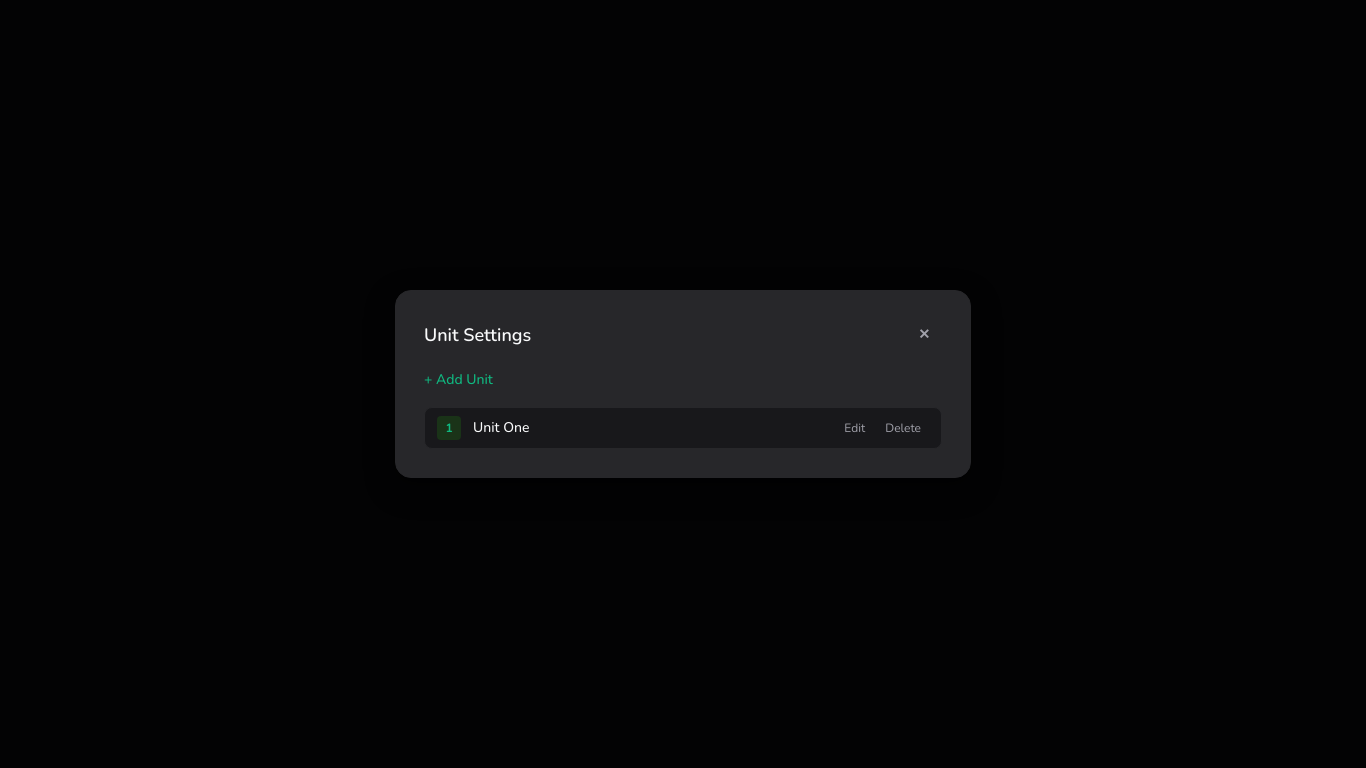
it: UnitSettingsModal › closes delete dialog when cancel clicked
Click the button "Delete".
click(903, 428)  # box [877, 416, 929, 440]
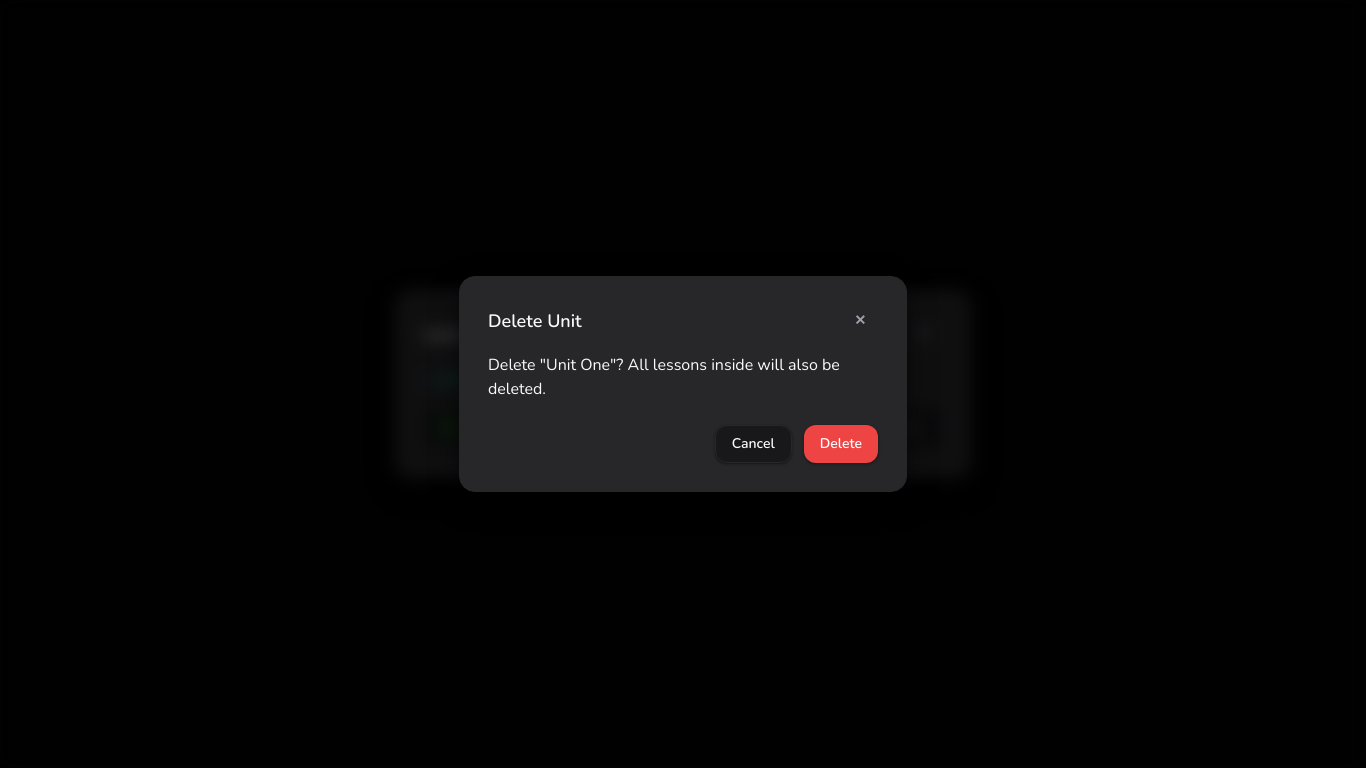
Click the button "Cancel".
click(753, 444)  # box [715, 425, 792, 463]
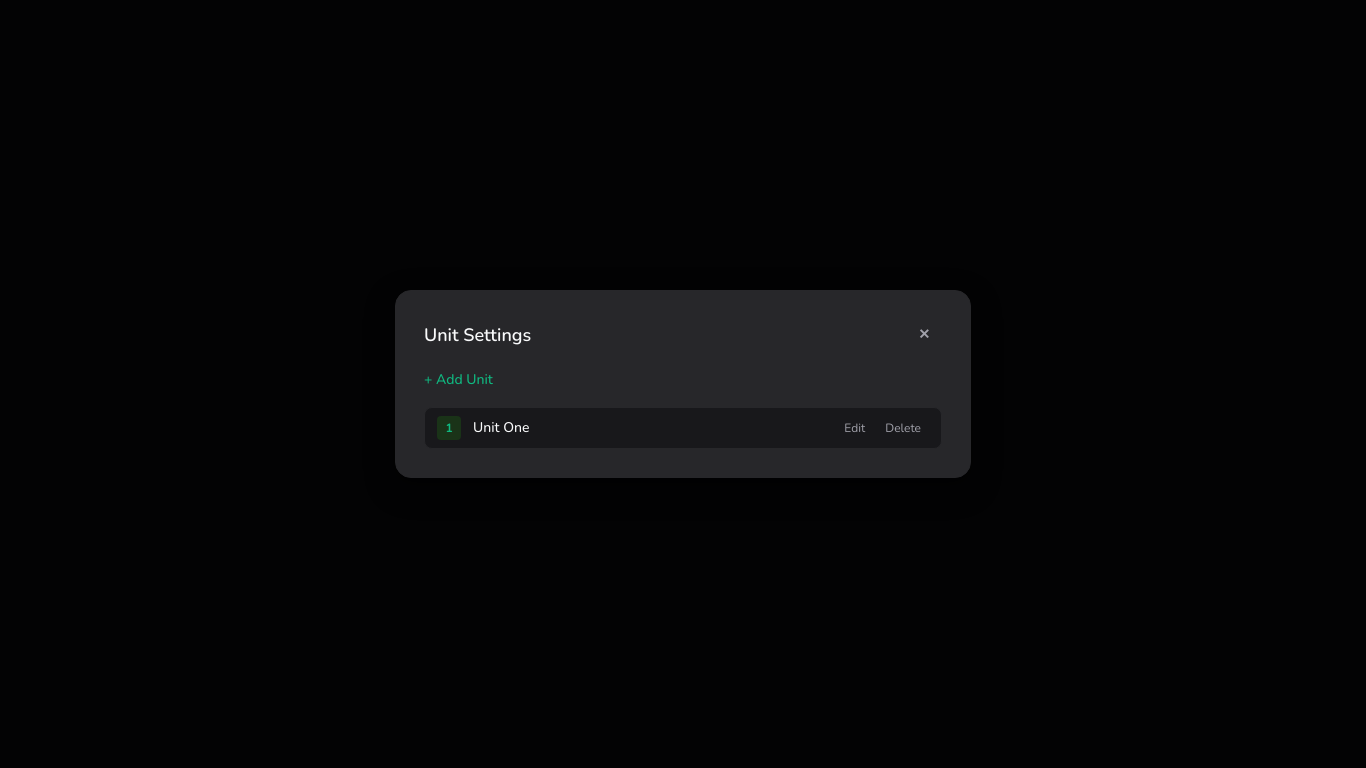
Expected: the heading "Delete Unit" is gone
